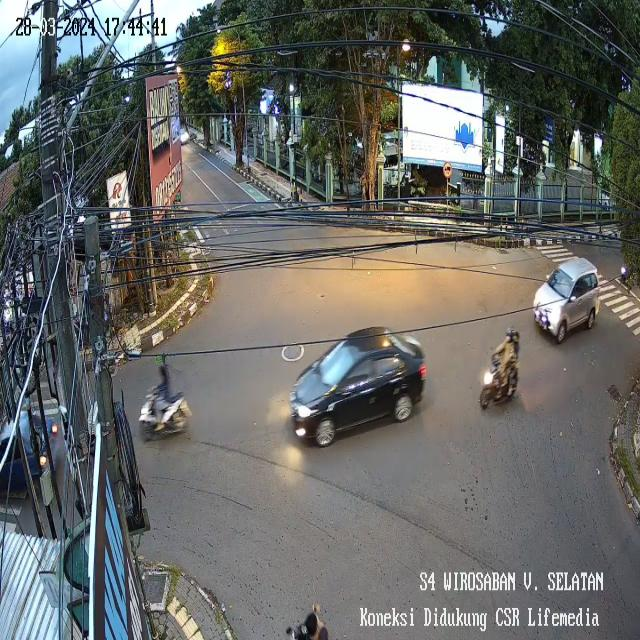car: (284, 318, 428, 454), (532, 252, 602, 352), (0, 395, 61, 507)
motorcycle: (136, 377, 194, 447), (475, 349, 524, 414), (618, 256, 634, 296)
